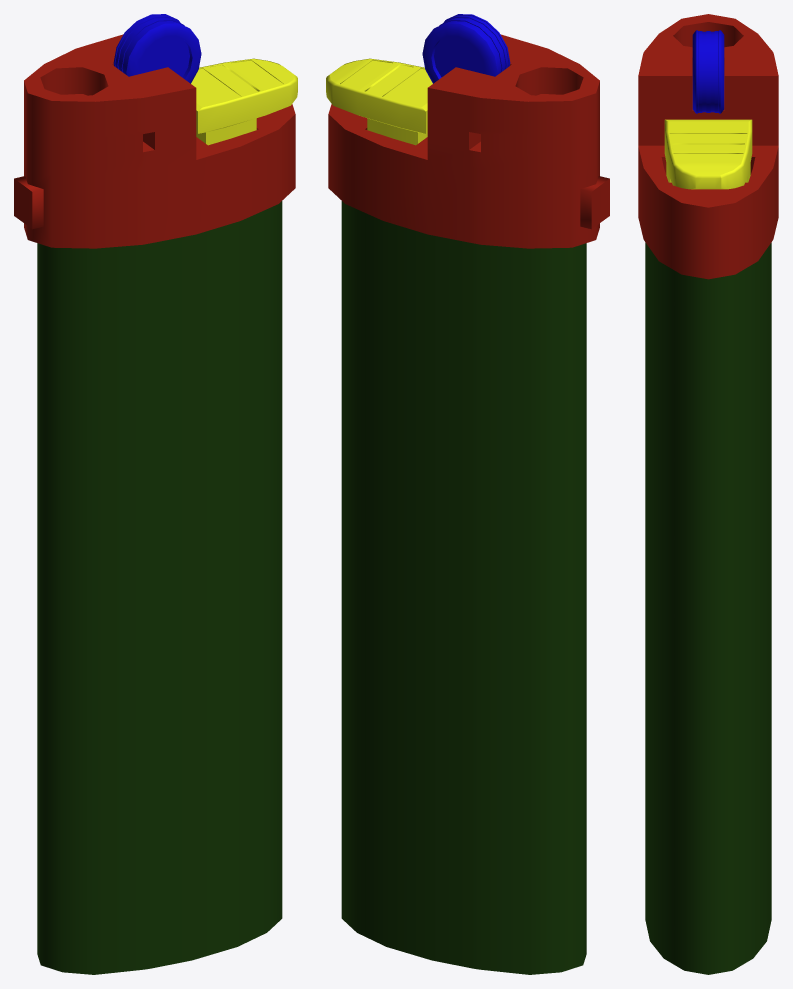
File: Lighter.fbx
3 views of the same model, side by side, from view 1: azimuth 30°, elevation 25°; view 2: azimuth 150°, elevation 25°; view 3: azimuth 270°, elevation 25° (orthographic). The views are drawn at different scales.
Parts seen in each view (by area): view 1: LighterBody_Low, LighterPedal_Low, LighterWheel_Low; view 2: LighterBody_Low, LighterPedal_Low, LighterWheel_Low; view 3: LighterBody_Low, LighterPedal_Low, LighterWheel_Low.
Boxes of the visible parts, box(x1,y1,x2,y2) form: LighterBody_Low: box(14, 34, 295, 974); LighterPedal_Low: box(191, 58, 297, 145); LighterWheel_Low: box(113, 14, 201, 83); LighterBody_Low: box(328, 34, 609, 974); LighterPedal_Low: box(326, 58, 432, 145); LighterWheel_Low: box(422, 14, 510, 83); LighterBody_Low: box(638, 14, 778, 974); LighterPedal_Low: box(664, 119, 752, 189); LighterWheel_Low: box(692, 30, 724, 113).
Size of the model in its own units: 30.2 by 98.67 by 14.2.
